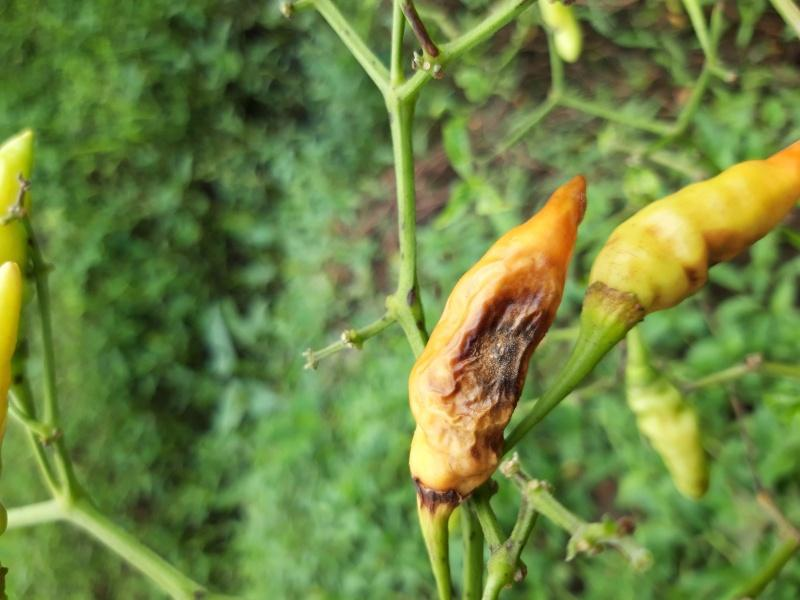antraknosa: (406, 177, 589, 495), (591, 140, 800, 314)
cabai_normal: (628, 370, 711, 498)
